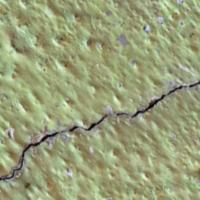crack: (0, 76, 199, 190)
